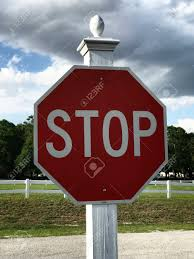Stop: (14, 54, 191, 206)
